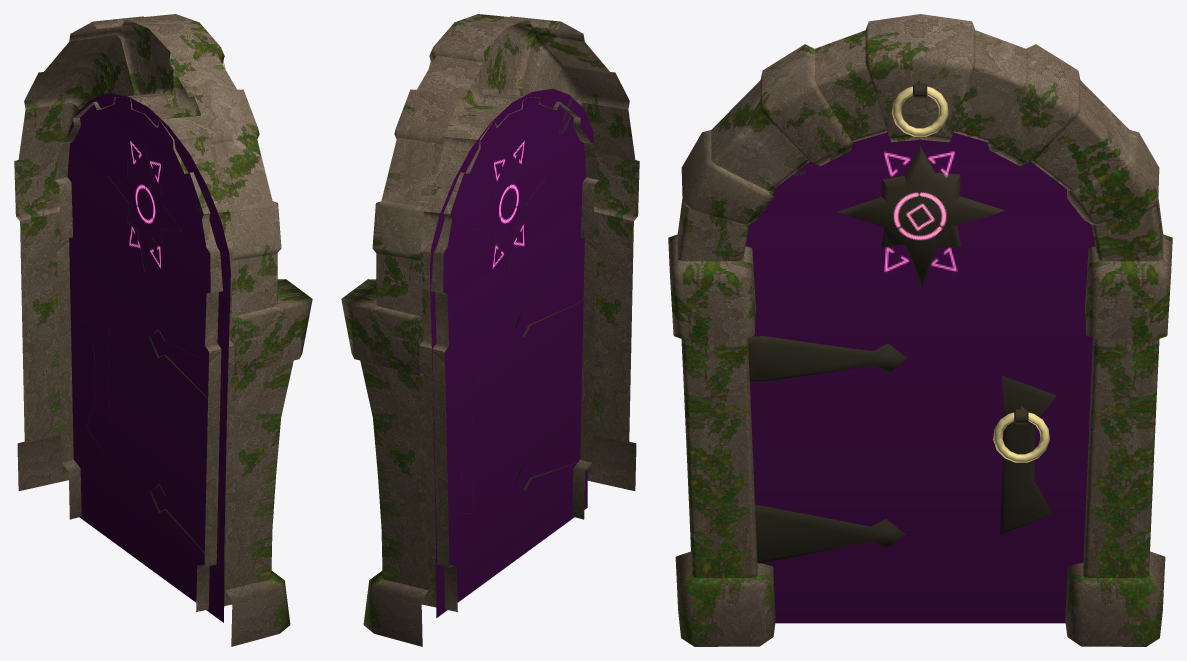
File: fantasy_door.glb
3 renders of one model, left to right at view 1: azimuth 30°, elevation 25°; view 2: azimuth 150°, elevation 25°; view 3: azimuth 270°, elevation 25°, orthographic. The views are drawn at different scales.
Visible parts, largest first — view 1: DoorArch01_low, Door01_low, DoorStar01_low; view 2: DoorArch01_low, Door01_low, DoorStar01_low; view 3: Door01_low, DoorArch01_low, DoorStar01_low, DoorRing_low2, DoorRing01_low.
Boxes of the visible parts, x1=… form: DoorArch01_low: x1=14, y1=14, x2=312, y2=646; Door01_low: x1=67, y1=93, x2=230, y2=622; DoorStar01_low: x1=85, y1=146, x2=227, y2=568; DoorArch01_low: x1=341, y1=14, x2=639, y2=646; Door01_low: x1=429, y1=88, x2=594, y2=617; DoorStar01_low: x1=449, y1=146, x2=583, y2=513; Door01_low: x1=745, y1=132, x2=1095, y2=623; DoorArch01_low: x1=668, y1=14, x2=1172, y2=646; DoorStar01_low: x1=748, y1=145, x2=1055, y2=563; DoorRing_low2: x1=891, y1=80, x2=948, y2=136; DoorRing01_low: x1=993, y1=406, x2=1049, y2=462.
Bounding box in the file's own units: 0.3618 × 2 × 1.5.
1 material, 1 textured.
